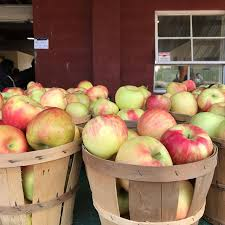apple: (165, 126, 217, 168), (24, 110, 73, 146), (118, 137, 169, 168), (85, 114, 126, 152), (5, 96, 43, 130), (1, 124, 30, 159), (115, 84, 146, 113), (144, 110, 174, 137), (170, 92, 202, 117), (38, 90, 68, 109), (146, 93, 170, 113), (201, 88, 223, 109), (166, 79, 189, 93)
